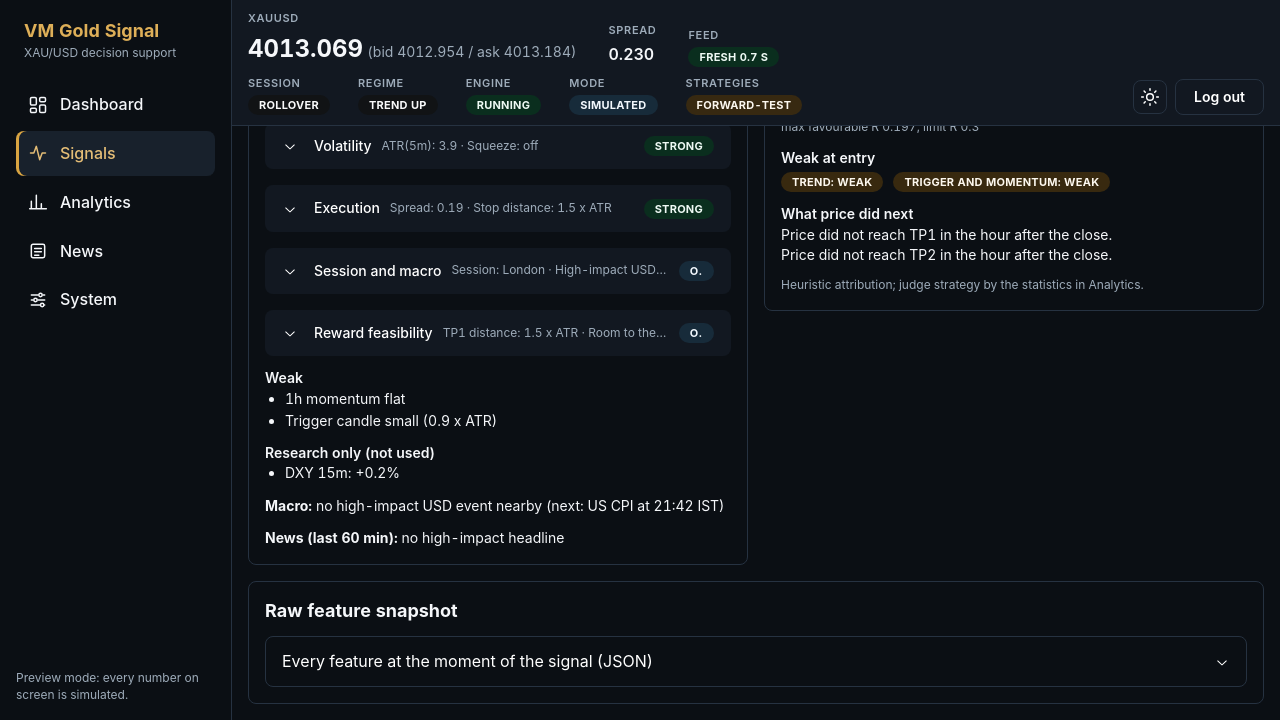
Test: the detail of a loss (scenario E8) › keeps the raw snapshot closed until it is opened, then shows its JSON
(page scrolled)
Click the button "Every feature at the moment of the signal (JSON)" at (468, 661), box [266, 637, 1246, 686]
(page scrolled)
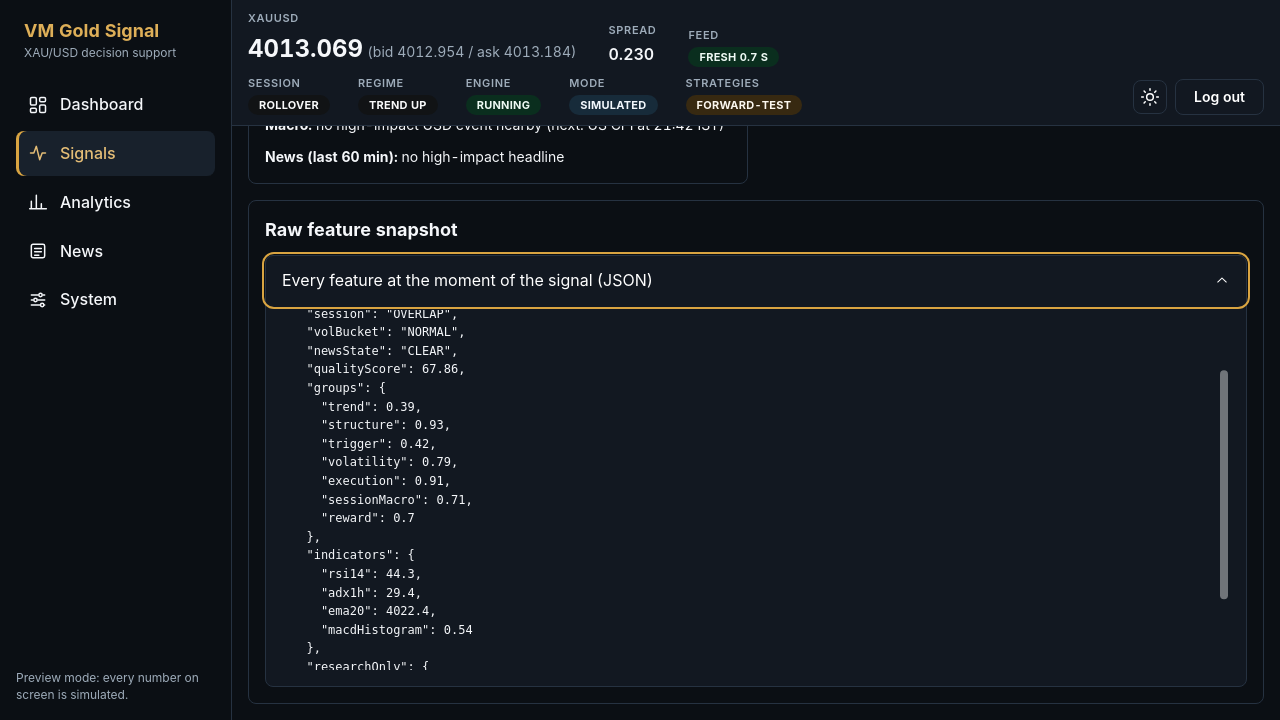
expect the text with test id "detail-snapshot-json" shows "\"indicators\"": met, box [292, 310, 502, 670]
expect the text with test id "detail-snapshot-json" shows "\"rsi14\"": met, box [292, 310, 502, 670]
